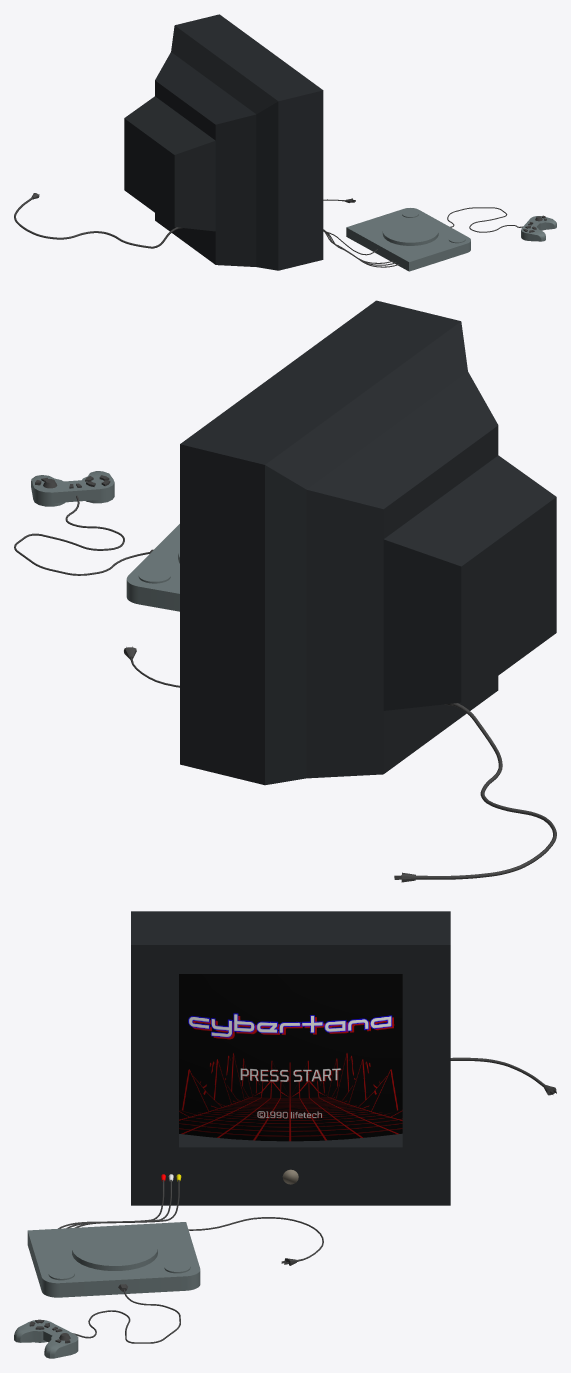
3 renders of one model, top to bottom at view 1: azimuth 30°, elevation 25°; view 2: azimuth 150°, elevation 25°; view 3: azimuth 270°, elevation 25°, orthographic. The views are drawn at different scales.
Visible parts, largest first — view 1: TV, Console, Controller, TV Power Plug; view 2: TV, Console, Controller, TV Power Plug, Controller Cable; view 3: TV, Plane, Console, Controller, RCA Cables, Controller Cable.
Boxes of the visible parts, x1,y1,x2,y2 form: TV: (124,14,323,270); Console: (346,208,470,271); Controller: (521,215,556,241); TV Power Plug: (14,193,182,248); TV: (180,300,556,785); Console: (126,524,179,611); Controller: (31,471,114,506); TV Power Plug: (394,703,556,882); Controller Cable: (14,495,153,575); TV: (131,911,450,1205); Plane: (179,974,402,1141); Console: (27,1222,200,1297); Controller: (14,1319,78,1358); RCA Cables: (58,1180,179,1228); Controller Cable: (73,1284,180,1343).
Bounding box in the file's own units: 446 × 181 × 340.
